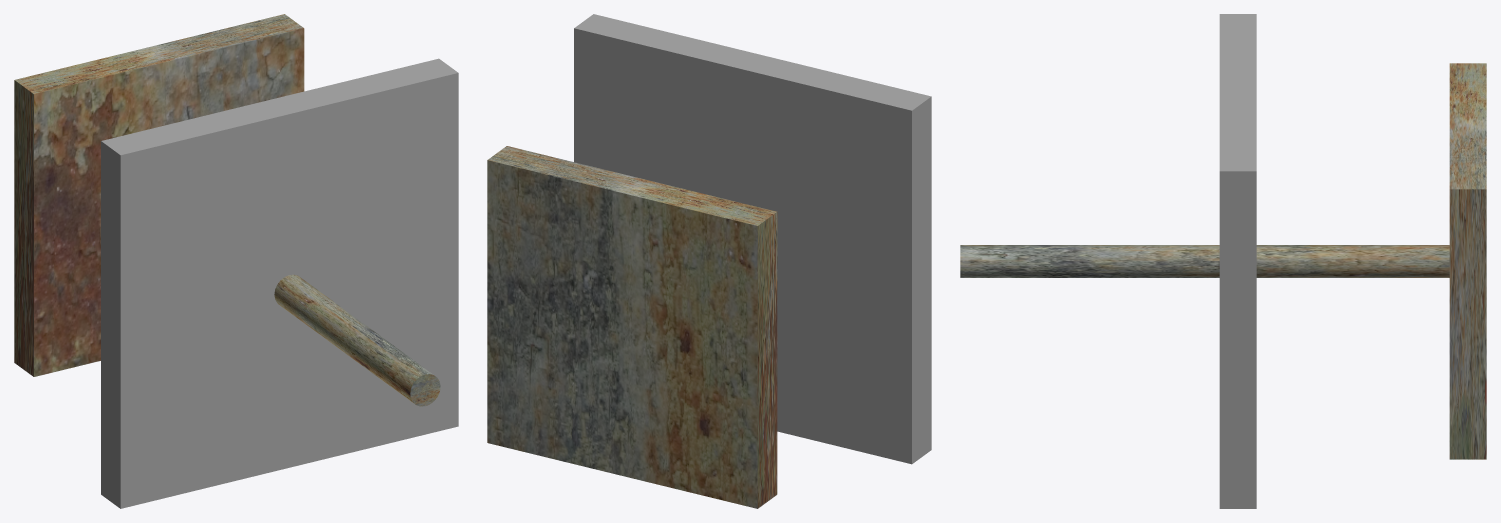
The model's file is Piston.fbx.
The picture shows the model from 3 angles, left to right: view 1: azimuth 30°, elevation 25°; view 2: azimuth 150°, elevation 25°; view 3: azimuth 270°, elevation 25°; orthographic projection. The views are drawn at different scales.
Parts seen in each view (by area): view 1: pCube1, pCylinder2; view 2: pCube1, pCylinder2; view 3: pCylinder2, pCube1.
Part boxes in pixels (box(x1,y1,x2,y2)): pCube1: box(101, 58, 458, 508); pCylinder2: box(14, 14, 440, 406); pCube1: box(574, 14, 931, 464); pCylinder2: box(487, 146, 777, 508); pCylinder2: box(960, 63, 1486, 459); pCube1: box(1219, 14, 1256, 508).
Bounding box in the file's own units: 10 × 10 × 14.14.
